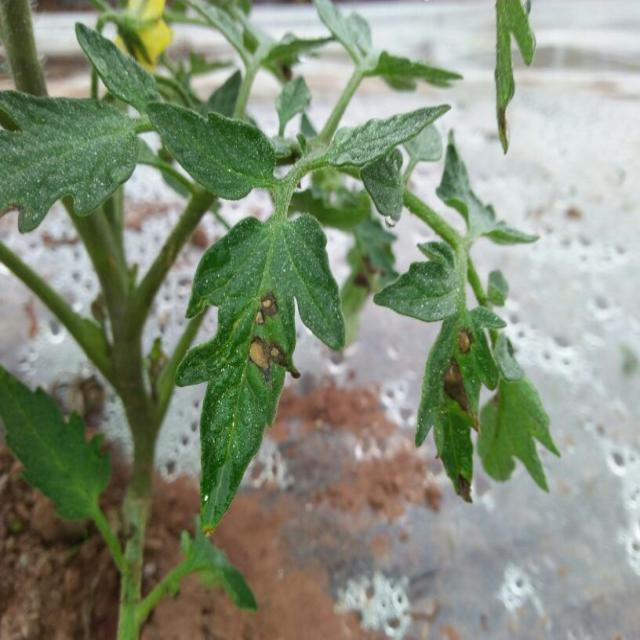Early_blight: (246, 332, 288, 383), (439, 354, 473, 413), (248, 287, 283, 332), (454, 323, 473, 355), (456, 476, 474, 503)
